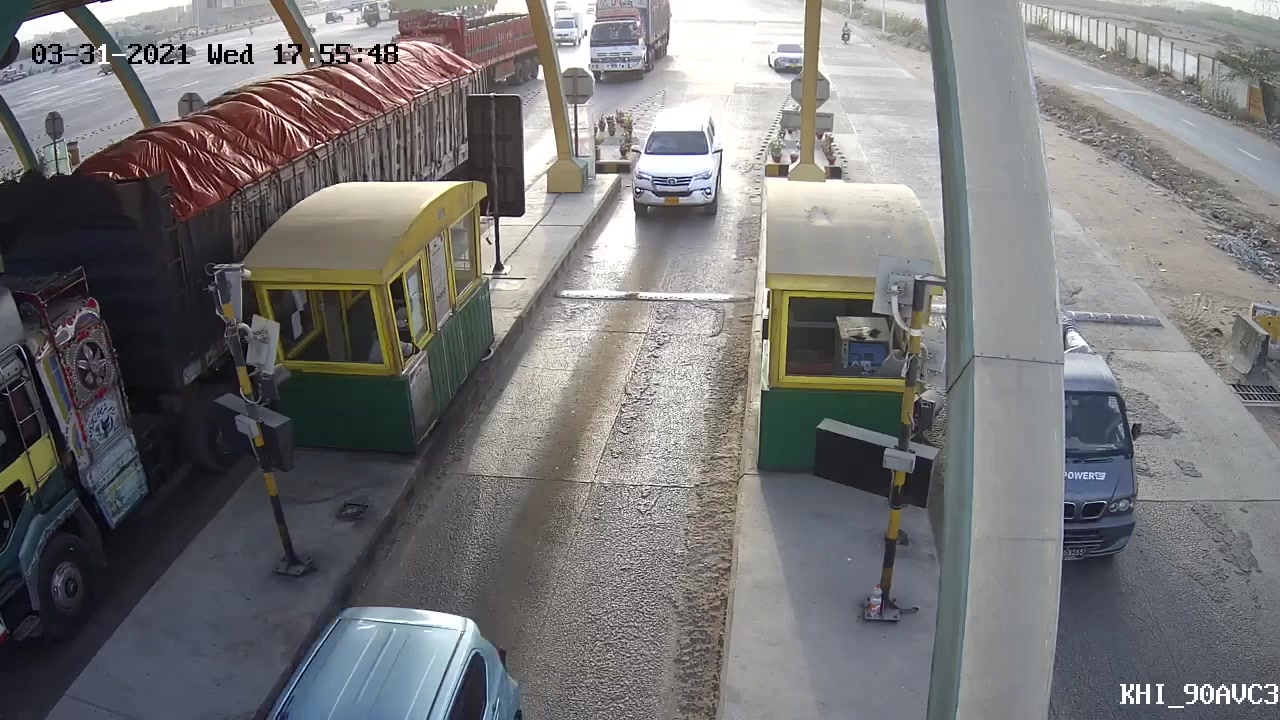F1: (626, 109, 724, 214)
